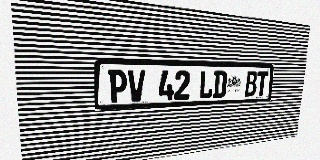2: (174, 70, 190, 100)
4: (158, 70, 175, 101)
B: (244, 71, 258, 97)
D: (213, 71, 227, 98)
L: (199, 71, 214, 99)
P: (108, 69, 127, 103)
T: (256, 71, 268, 96)
V: (128, 70, 145, 102)
